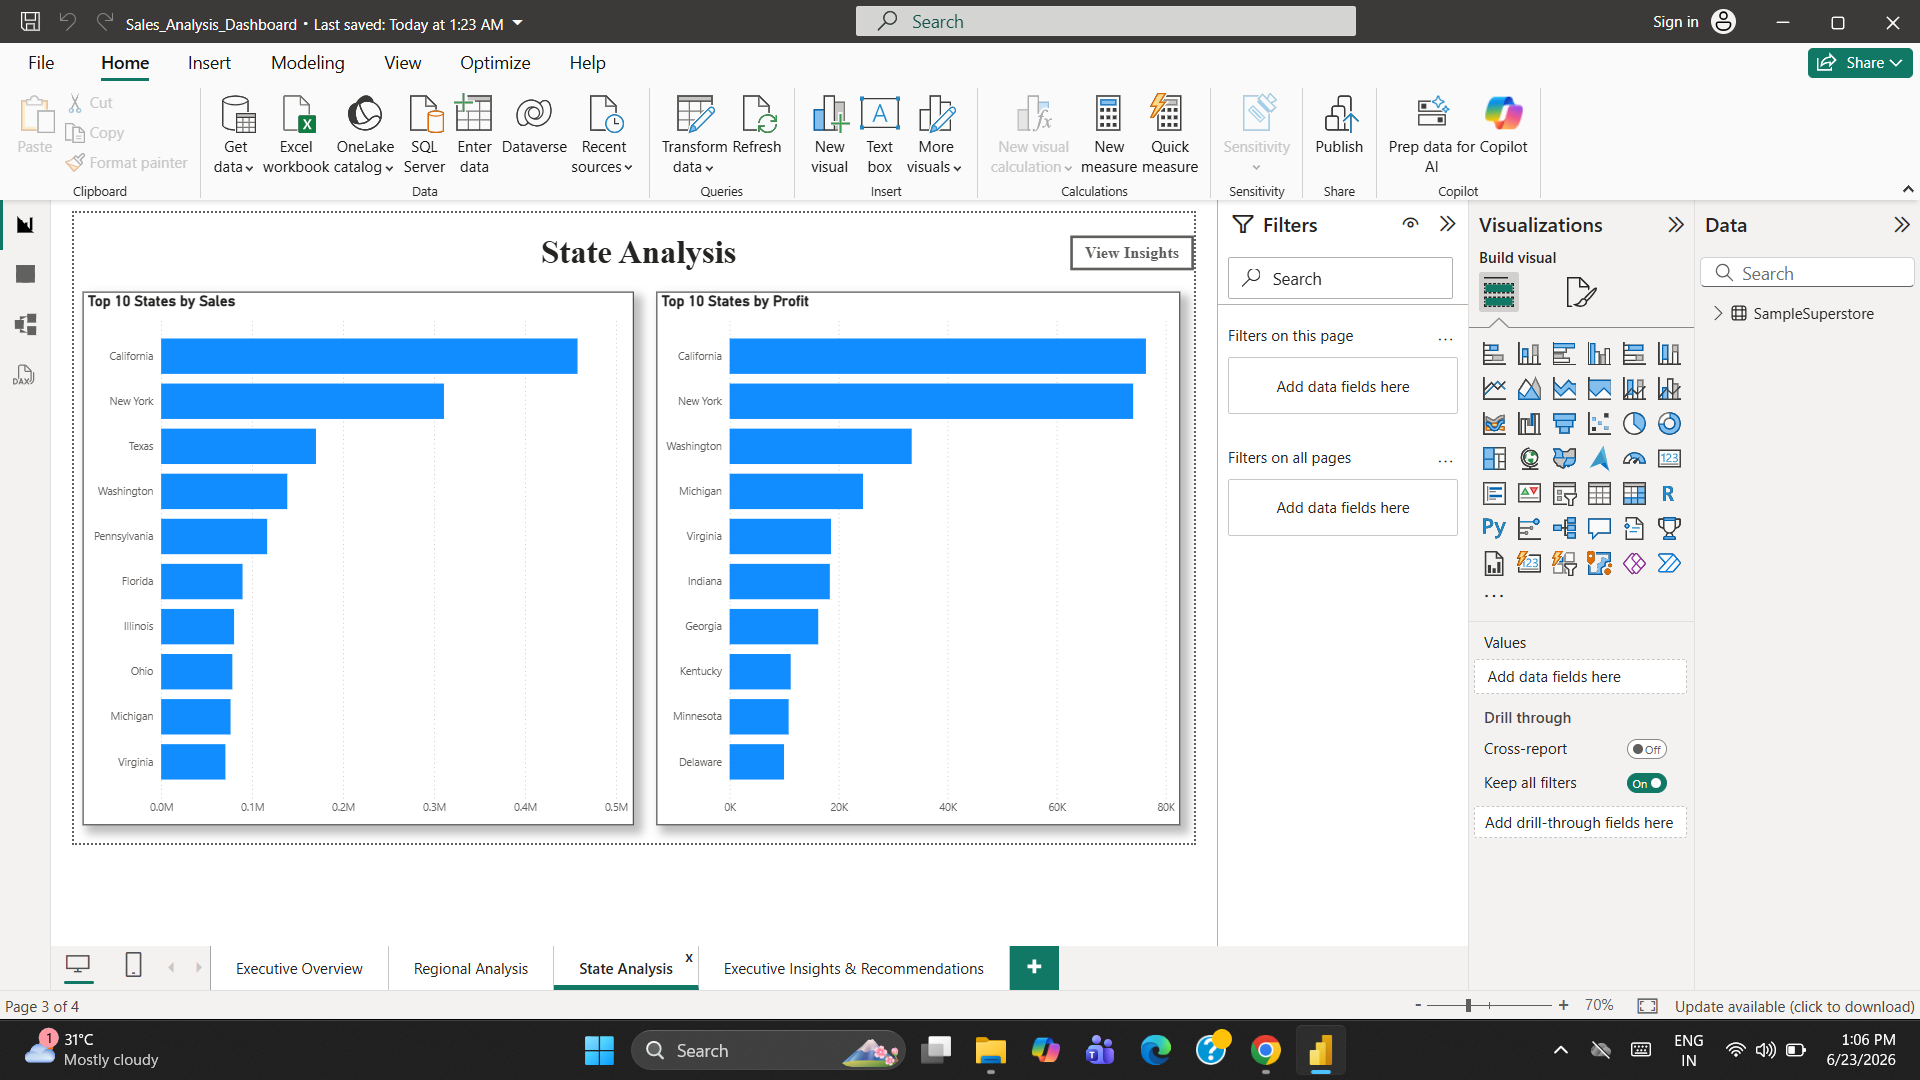

This screenshot's page, from the dashboard's own definition file:
{"tool":"powerbi","page":{"name":"State Analysis","canvas":[1280,720],"ordinal":2},"visuals":[{"type":"textbox","box":[9.6,0,1270.7,90.6],"z":0},{"type":"clusteredBarChart","title":"Top 10 States by Sales","fields":{"Y":["Sum(SampleSuperstore.Sales)"],"Category":["SampleSuperstore.State"]},"box":[9.6,90.6,629.8,609.3],"z":1000},{"type":"clusteredBarChart","title":"Top 10 States by Profit","fields":{"Y":["Sum(SampleSuperstore.Profit)"],"Category":["SampleSuperstore.State"]},"box":[665.5,90.6,598.3,609.3],"z":2000},{"type":"actionButton","box":[1138.9,26.1,141.3,39.8],"z":2001}]}

Visuals, with their boxes on the page's 1280x720 design canvas (x1, y1, x2, y2). These are canvas units, not pixel positions in the 1920x1080 screenshot, which may show the page scaled, cropped or inside an application window:
textbox: [x1=10, y1=0, x2=1280, y2=91]
"Top 10 States by Sales" clusteredBarChart: [x1=10, y1=91, x2=639, y2=700]
"Top 10 States by Profit" clusteredBarChart: [x1=666, y1=91, x2=1264, y2=700]
actionButton: [x1=1139, y1=26, x2=1280, y2=66]
